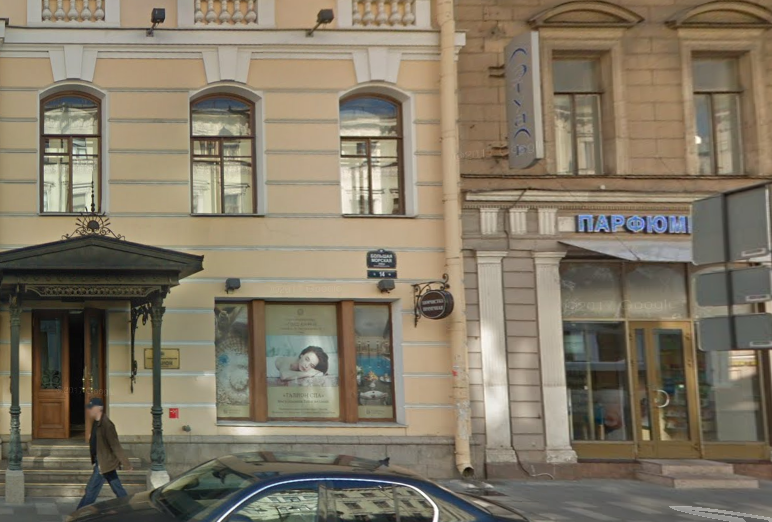cantilever: (487, 26, 544, 171), (411, 268, 460, 330)
door: (31, 313, 104, 444), (634, 319, 693, 460)
signboard: (572, 204, 693, 239)
window: (212, 300, 392, 424), (338, 77, 403, 222), (189, 81, 255, 216), (39, 88, 101, 210), (558, 51, 607, 174), (699, 54, 745, 170)
